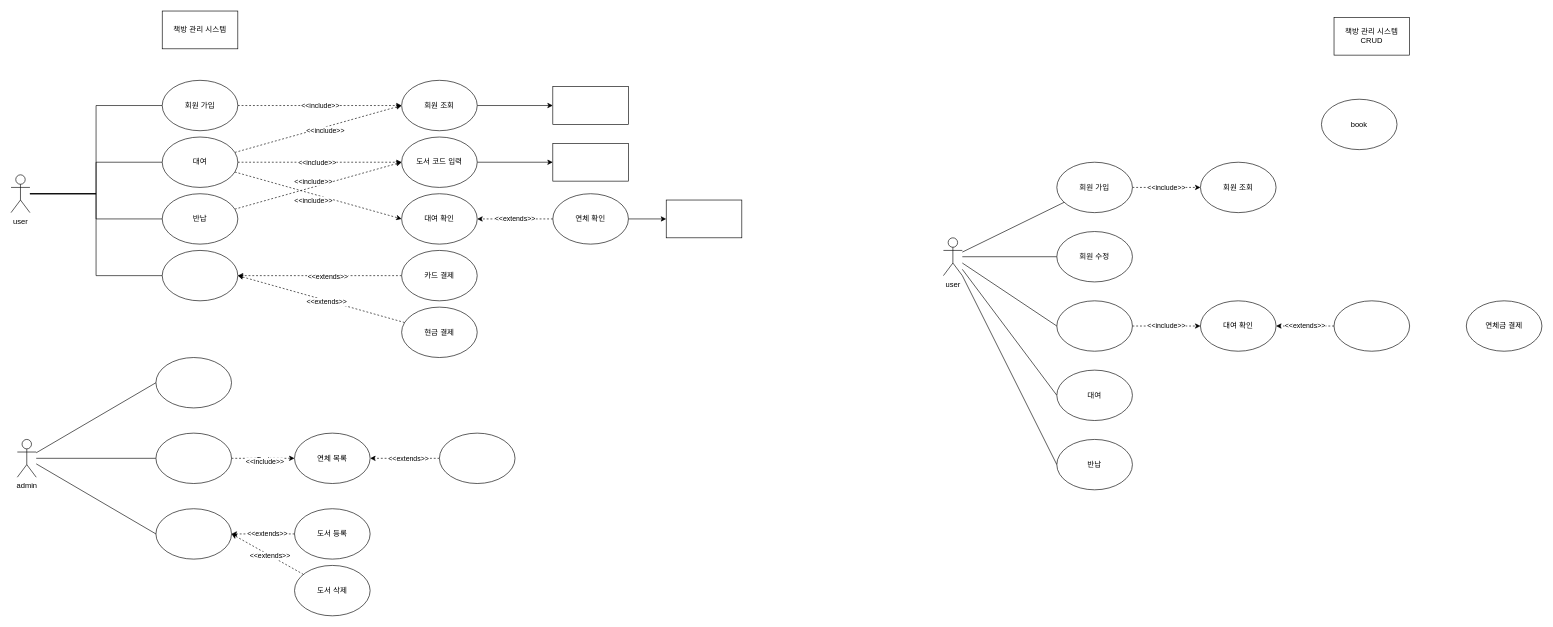
Image size: 1553x627. Some labels were removed from this diagram. Each missing label, with the centre of its shape:
"결제" belongs at point 200,275.
"대여 테이블" belongs at point 704,218.
"도서 관리" belongs at point 193,533.
"도서 테이블" belongs at point 590,162.
"연체 관리" belongs at point 193,458.
"연체금 표시" belongs at point 477,458.
"연체금 확인" belongs at point 1371,325.
"회원 탈퇴" belongs at point 1094,325.
"회원 테이블" belongs at point 590,105.
"회원 확인" belongs at point 193,382.
